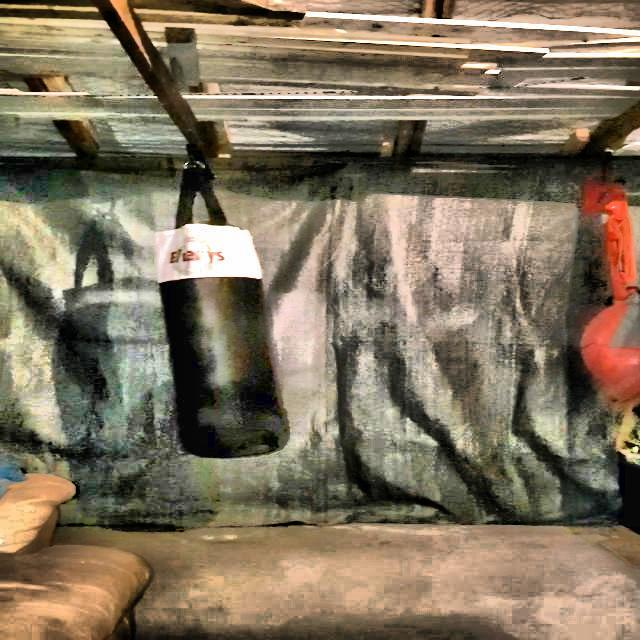boxing-bag: (156, 142, 294, 464)
